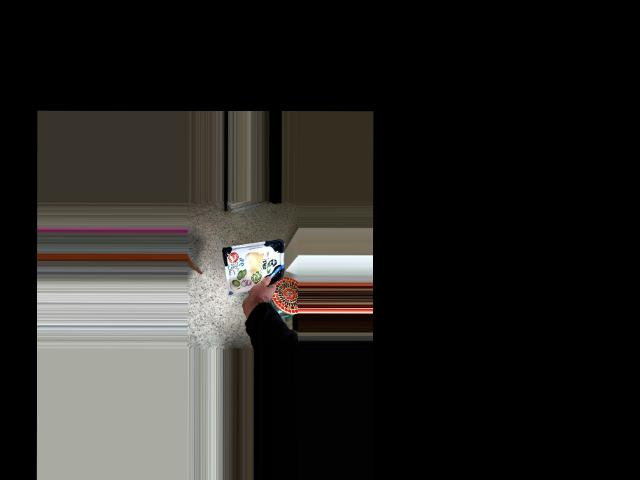cheese: (224, 255, 273, 304)
